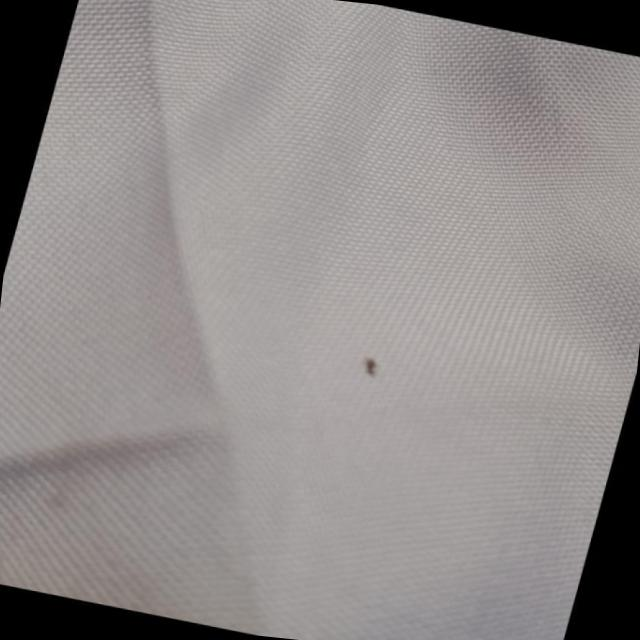stain: (338, 338, 403, 396)
